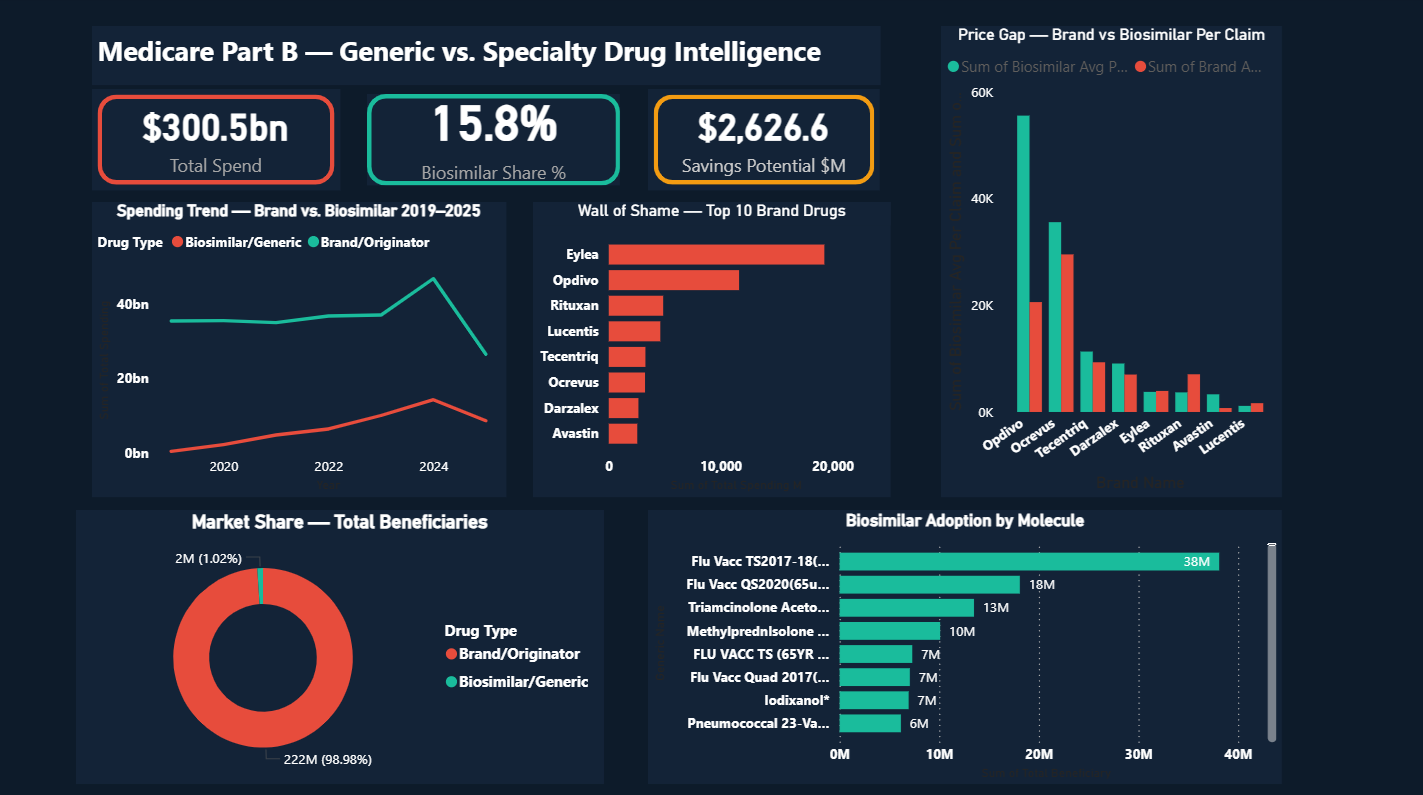

This screenshot's page, from the dashboard's own definition file:
{"tool":"powerbi","page":{"name":"Medicare Dashboard","canvas":[1280,720],"ordinal":0},"visuals":[{"type":"advanceCardE03760C5AB684758B56AA29F9E6C257B","title":"Total Medicare Spend","fields":{"mainMeasure":["Main_Data.Total Spend"]},"box":[83.1,82.1,222.6,90.7],"z":0},{"type":"advanceCardE03760C5AB684758B56AA29F9E6C257B","fields":{"mainMeasure":["Main_Data.Biosimilar Share %"]},"box":[330.5,86.9,227.3,82.1],"z":1000},{"type":"advanceCardE03760C5AB684758B56AA29F9E6C257B","fields":{"mainMeasure":["Wall_of_Shame.Savings Potential $M"]},"box":[582.7,82.1,208.2,90.7],"z":2000},{"type":"lineChart","title":"Spending Trend — Brand vs. Biosimilar 2019–2025","fields":{"Series":["Main_Data.Drug Type"],"Category":["Main_Data.Year"],"Y":["Sum(Main_Data.Total Spending)"]},"box":[83.1,184.4,371.6,264.6],"z":3000},{"type":"clusteredBarChart","title":"Wall of Shame — Top 10 Brand Drugs","fields":{"Category":["Wall_of_Shame.Brand Name"],"Y":["Sum(Wall_of_Shame.Total Spending M)"]},"box":[479.5,184.4,321,264.6],"z":4000},{"type":"donutChart","title":"Market Share — Total Beneficiaries","fields":{"Y":["Sum(Main_Data.Total Beneficiary)"],"Category":["Main_Data.Drug Type"]},"box":[68.8,460.4,473.8,246.4],"z":5000},{"type":"clusteredBarChart","title":"Biosimilar Adoption by Molecule","fields":{"Category":["Main_Data.Generic Name"],"Y":["Sum(Main_Data.Total Beneficiary)"]},"box":[582.7,460.4,569.3,246.4],"z":6000},{"type":"clusteredColumnChart","title":"Price Gap — Brand vs Biosimilar Per Claim","fields":{"Category":["Wall_of_Shame.Brand Name"],"Y":["Sum(Wall_of_Shame.Biosimilar Avg Per Claim)","Sum(Wall_of_Shame.Brand Avg Per Claim)"]},"box":[845.4,46.8,322.9,402.1],"z":7000},{"type":"textbox","box":[83.1,25.8,707.8,52.5],"z":8000}]}

Visuals, with their boxes in screenshot pixels (x1, y1, x2, y2), scaled from the page's 1280x720 canvas onto the 1423x795 screenshot:
"Total Medicare Spend" advanceCardE03760C5AB684758B56AA29F9E6C257B: box=[92, 91, 340, 191]
advanceCardE03760C5AB684758B56AA29F9E6C257B - Main_Data.Biosimilar Share %: box=[367, 96, 620, 187]
advanceCardE03760C5AB684758B56AA29F9E6C257B - Wall_of_Shame.Savings Potential $M: box=[648, 91, 879, 191]
"Spending Trend — Brand vs. Biosimilar 2019–2025" lineChart: box=[92, 204, 505, 496]
"Wall of Shame — Top 10 Brand Drugs" clusteredBarChart: box=[533, 204, 890, 496]
"Market Share — Total Beneficiaries" donutChart: box=[76, 508, 603, 780]
"Biosimilar Adoption by Molecule" clusteredBarChart: box=[648, 508, 1281, 780]
"Price Gap — Brand vs Biosimilar Per Claim" clusteredColumnChart: box=[940, 52, 1299, 496]
textbox: box=[92, 28, 879, 86]
